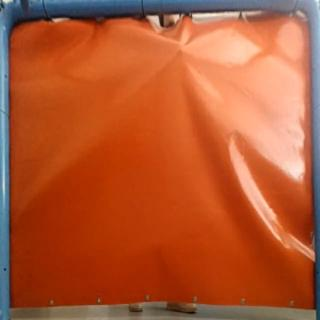Hit-hRxx: (174, 41, 192, 57)
